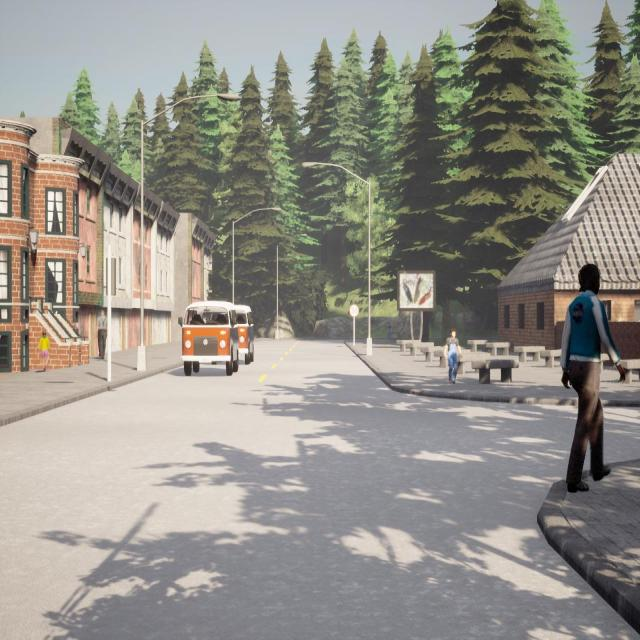Pedestrian: (560, 263, 624, 492), (444, 326, 463, 384), (95, 308, 108, 361), (38, 330, 51, 372), (386, 322, 392, 342)
Traffic_Signs: (349, 304, 359, 318)
Vehicle: (178, 301, 238, 376), (233, 305, 254, 365)
traffic_light: (106, 258, 116, 295)
